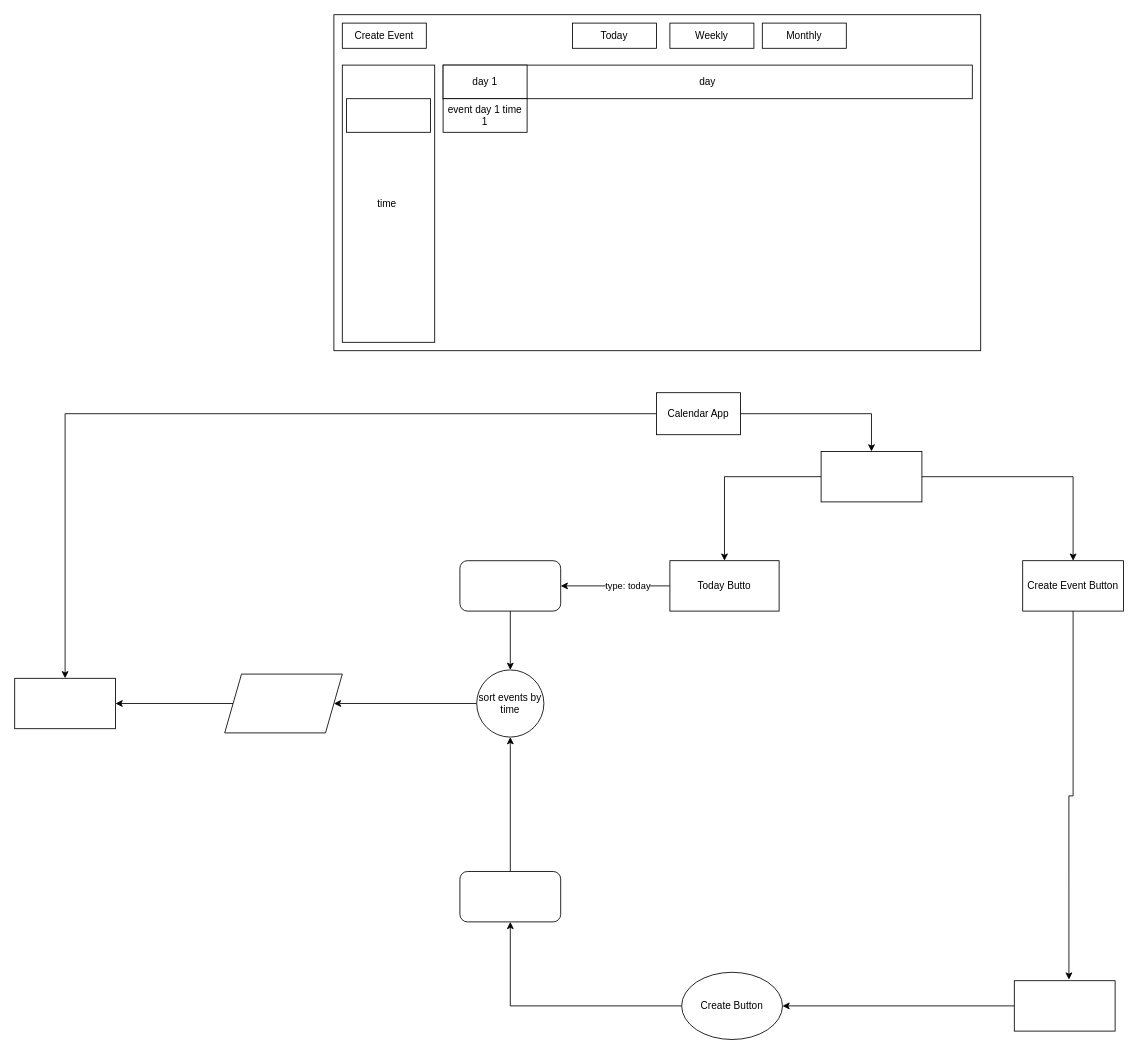
This 1138x1054 diagram has some shape labels left out. Each missing label, with the centre of its shape:
"calendarData state" belongs at point 283,703.
"Create Event Modal" belongs at point 1064,1005.
"createEvent API()" belongs at point 510,896.
"getEvents(type) API type: today, weekly, monthly" belongs at point 510,585.
"Header Component" belongs at point 871,476.
"time 1" belongs at point 388,115.
"Timeline Component" belongs at point 65,703.
